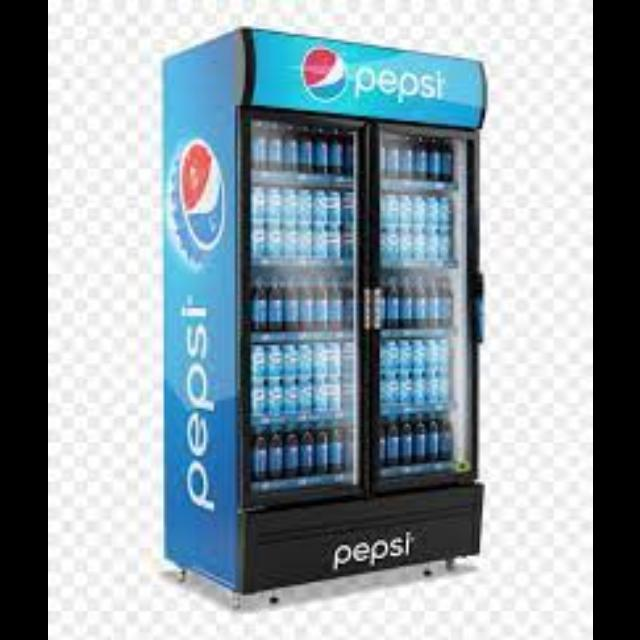Cooling-Display: (150, 19, 512, 614)
